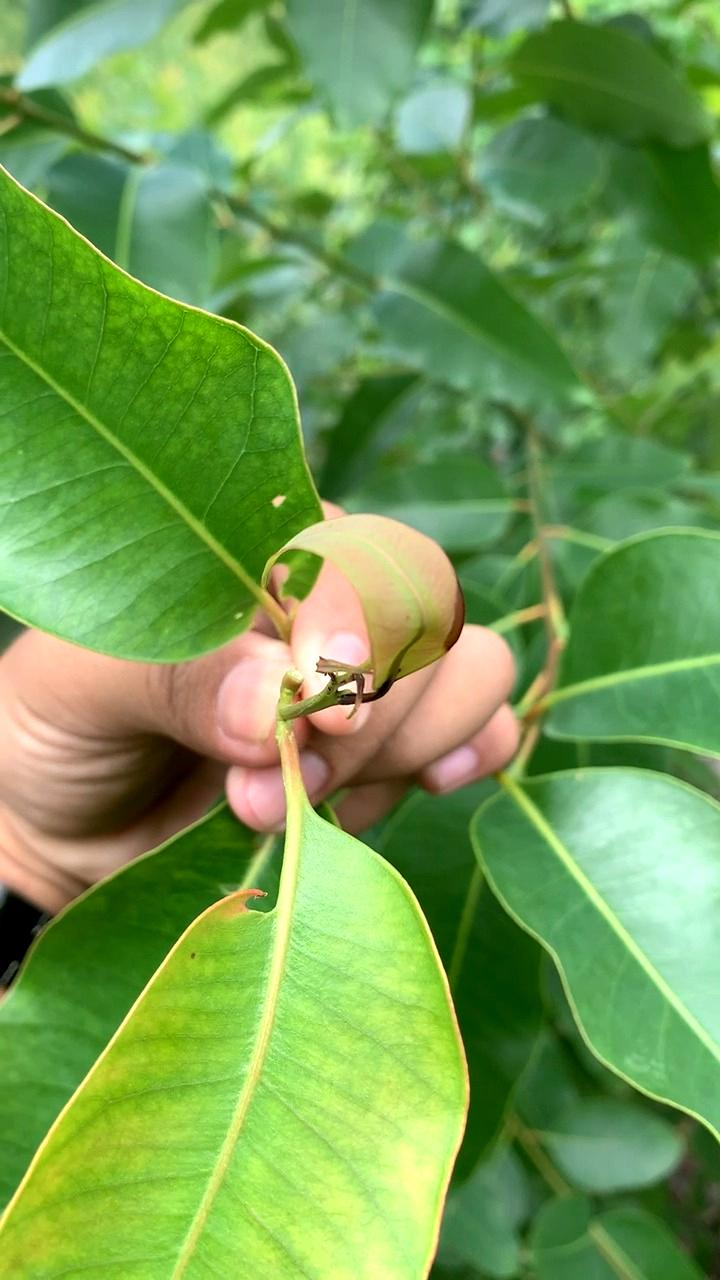Helopeltis-Withered Sprout: (263, 508, 465, 701)
